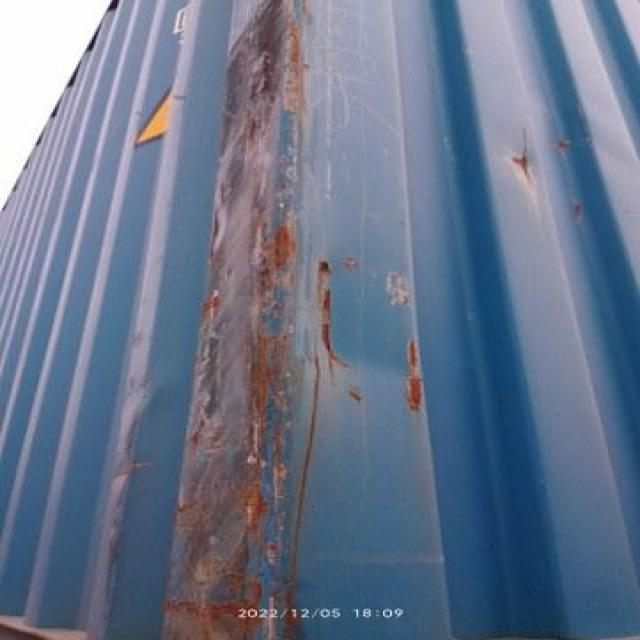Minor-Dent: (311, 272, 421, 399)
